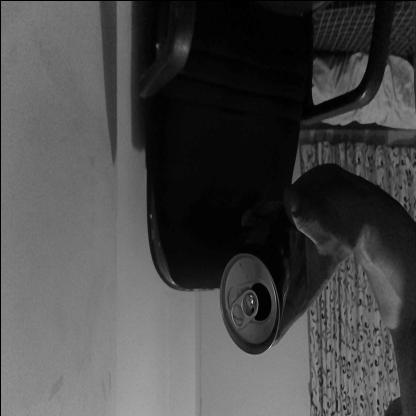alumunium_can: (222, 223, 300, 360)
